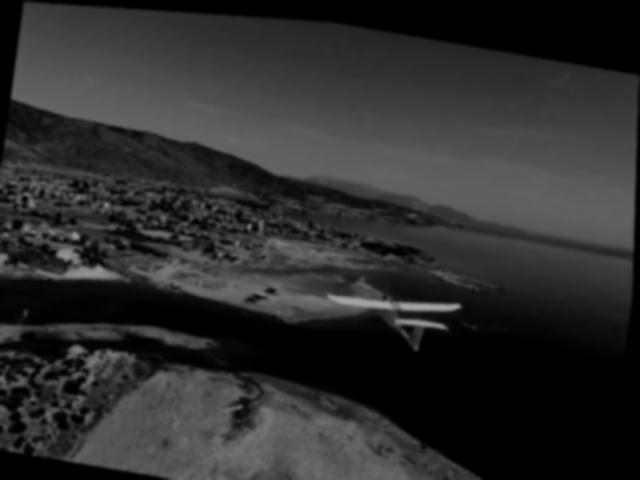hedef: (319, 270, 469, 355)
